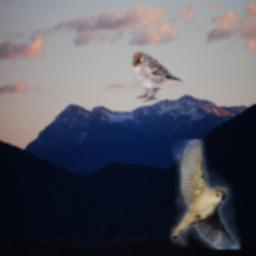Sparrow: (171, 140, 240, 250), (130, 51, 184, 102)
